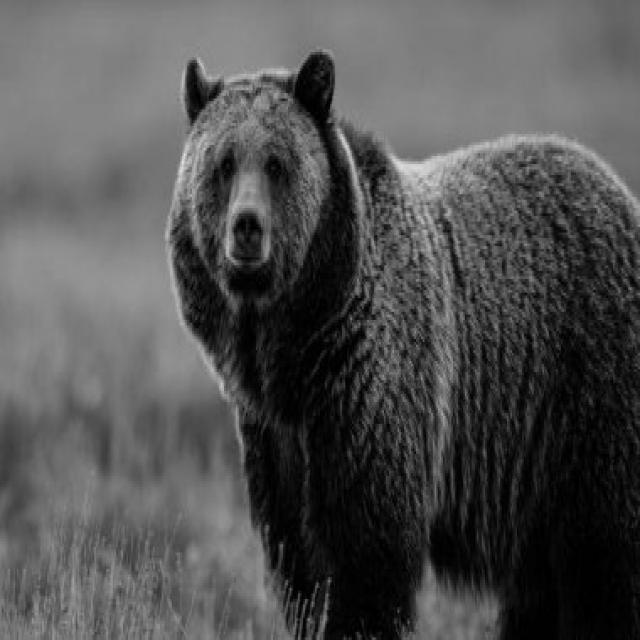Animal: (166, 51, 640, 637)
